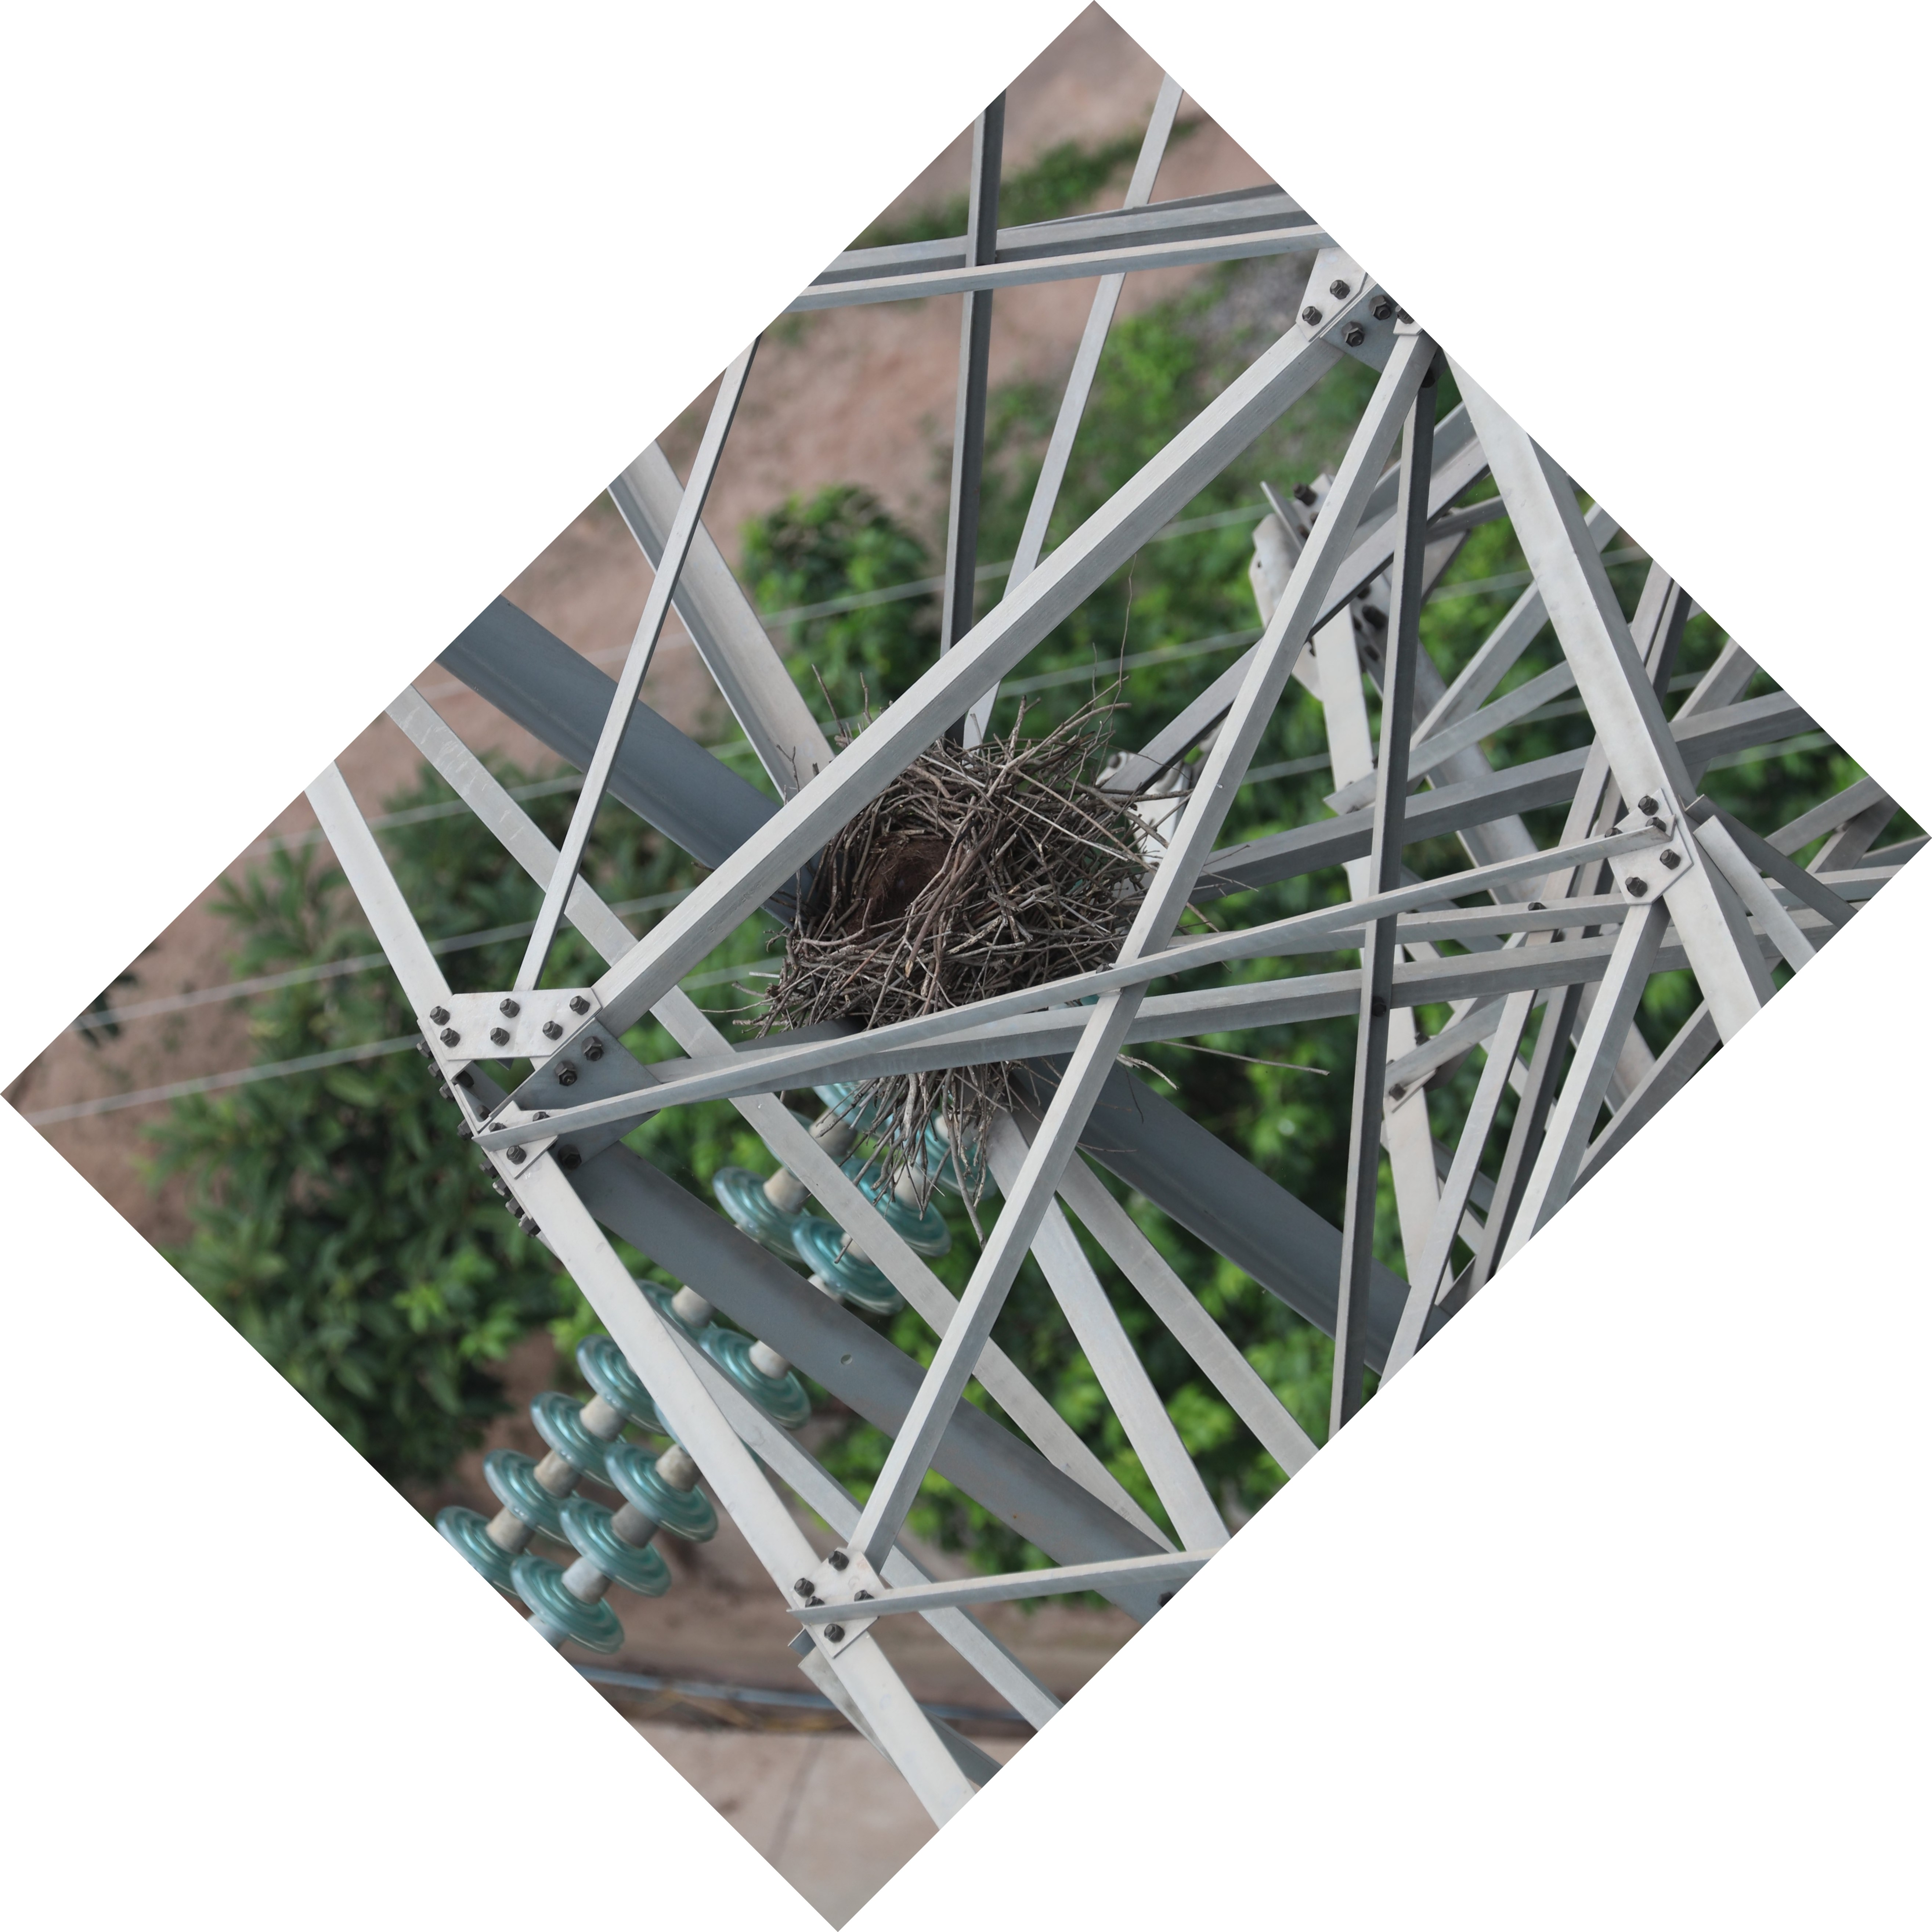niaowo: (740, 702, 1182, 1122)
